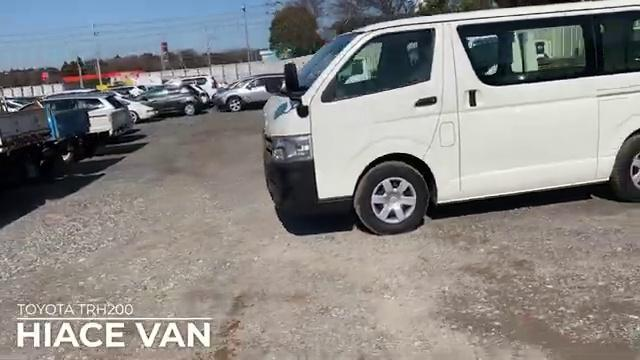van: (260, 5, 640, 231)
